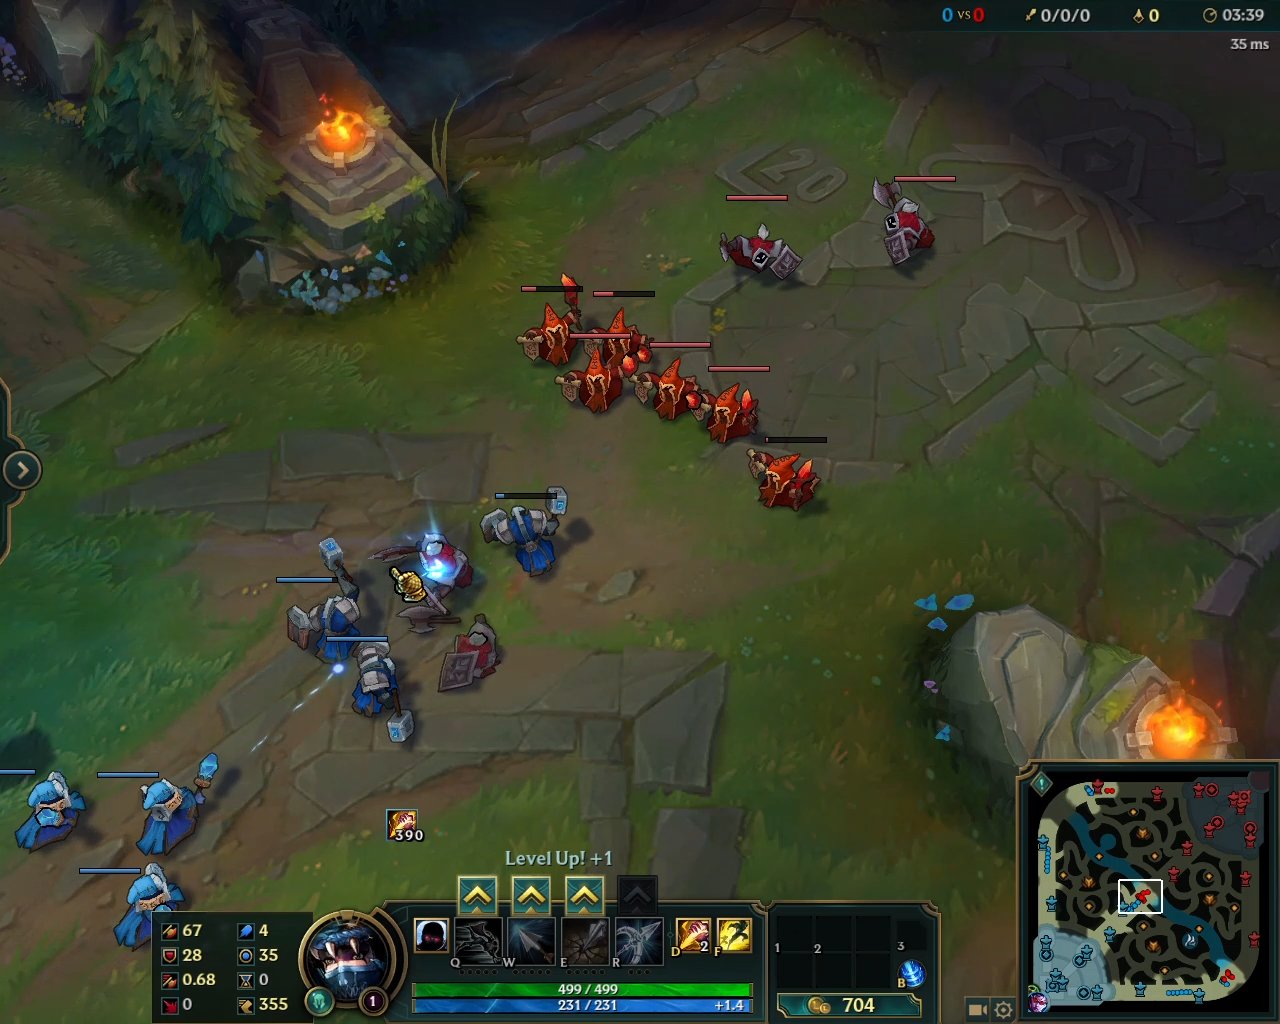EnemyMinion: (871, 170, 960, 270), (515, 272, 588, 372), (719, 194, 796, 285), (742, 436, 830, 515), (631, 341, 709, 424), (558, 331, 633, 417), (690, 366, 768, 446), (587, 289, 659, 360)
